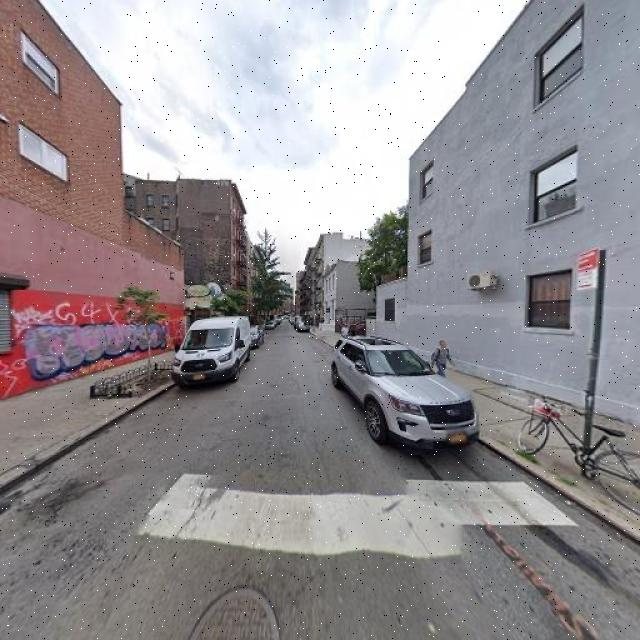Building: (379, 1, 640, 432), (1, 1, 185, 399)
